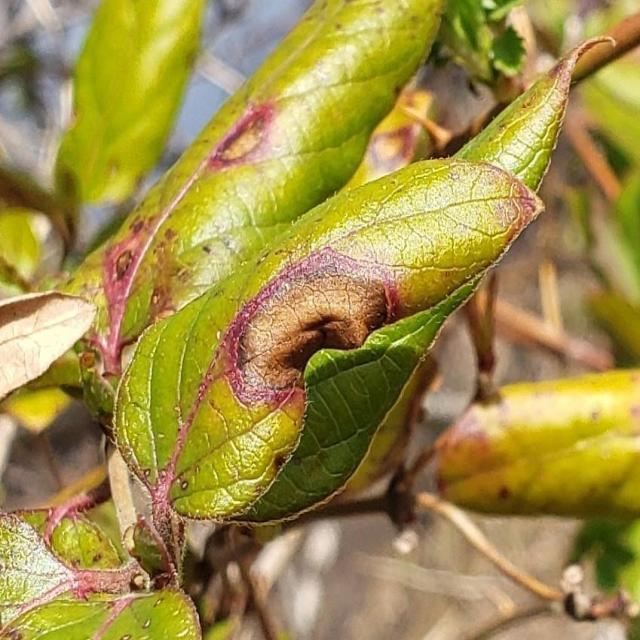blight: (239, 262, 409, 398)
